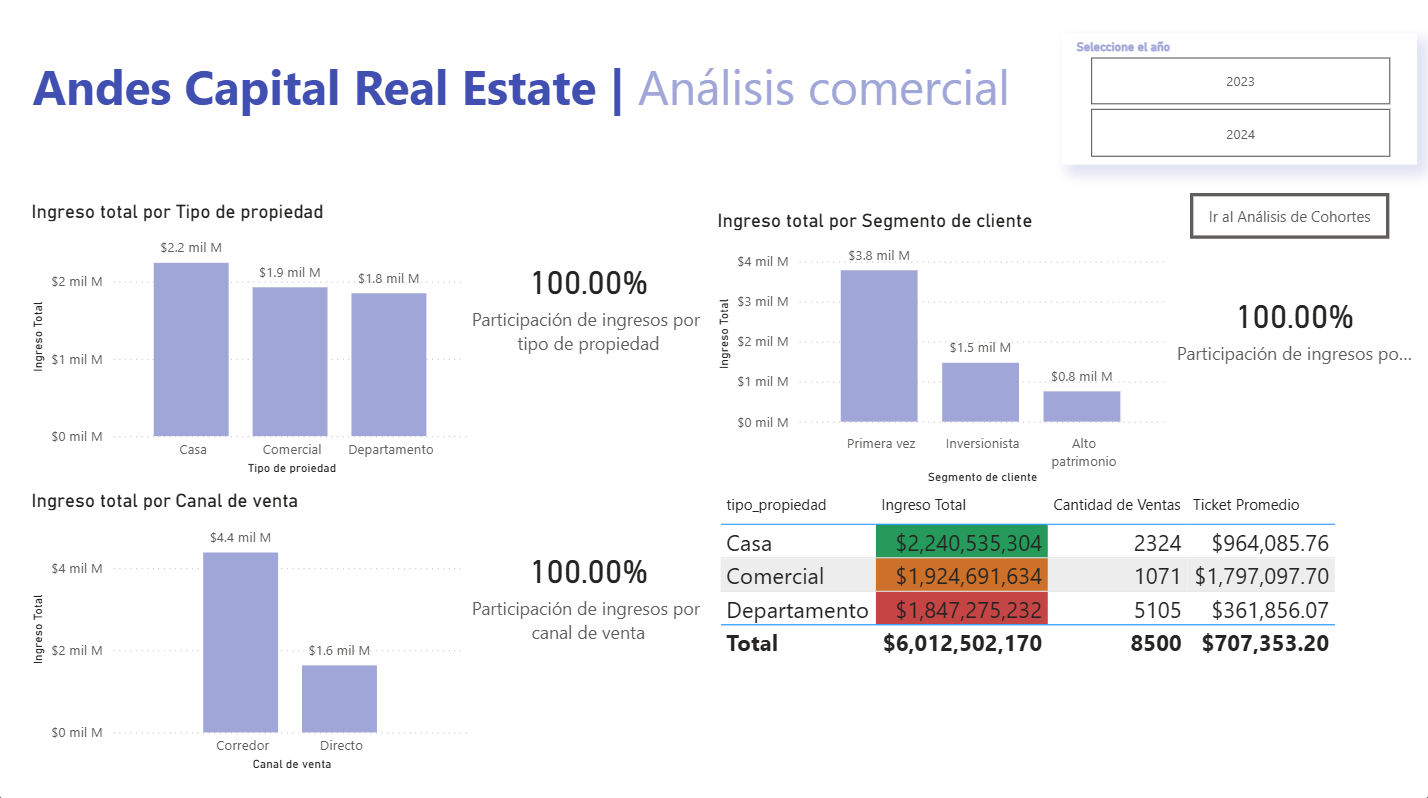

What the dashboard file says about the page in this screenshot:
{"tool":"powerbi","page":{"name":"Análisis comercial","canvas":[1280,720],"ordinal":1},"visuals":[{"type":"clusteredColumnChart","title":"Ingreso total por Tipo de propiedad","fields":{"Y":["Medidas.Ingreso Total"],"Category":["dim_propiedades.tipo_propiedad"]},"box":[24.6,183.3,402.7,250.4],"z":0},{"type":"card","fields":{"Values":["Medidas.Participación de ingresos por tipo de propiedad"]},"box":[417.4,183.3,221,165.3],"z":1000},{"type":"clusteredColumnChart","title":"Ingreso total por Canal de venta","fields":{"Y":["Medidas.Ingreso Total"],"Category":["hecho_ventas_propiedades.canal_venta"]},"box":[24.6,441.9,402.7,257],"z":2000},{"type":"card","fields":{"Values":["Medidas.Participación de ingresos por canal de venta"]},"box":[417.4,441.9,221,165.3],"z":3000},{"type":"clusteredColumnChart","title":"Ingreso total por Segmento de cliente","fields":{"Y":["Medidas.Ingreso Total"],"Category":["dim_clientes.segmento_comprador"]},"box":[638.4,191.5,410.8,250.4],"z":4000},{"type":"card","fields":{"Values":["Medidas.Participación de ingresos por segmento de cliente"]},"box":[1049.3,244.4,221,103.9],"z":5000},{"type":"tableEx","fields":{"Values":["dim_propiedades.tipo_propiedad","Medidas.Ingreso Total","Medidas.Cantidad de Ventas","Medidas.Ticket Promedio"]},"box":[640,441.7,605.5,184.9],"z":6000},{"type":"textbox","box":[24.9,47.9,917.8,84.3],"z":7000},{"type":"slicer","fields":{"Values":["Dim_Fecha.Año"]},"box":[952.3,34.5,318.1,116.9],"z":8000},{"type":"actionButton","box":[1066.8,177.1,178.5,41],"z":8001}]}

Visuals, with their boxes in screenshot pixels (x1, y1, x2, y2), scaled from the page's 1280x720 canvas onto the 1428x798 screenshot:
"Ingreso total por Tipo de propiedad" clusteredColumnChart: 27:203:477:481
card - Medidas.Participación de ingresos por tipo de propiedad: 466:203:712:386
"Ingreso total por Canal de venta" clusteredColumnChart: 27:490:477:775
card - Medidas.Participación de ingresos por canal de venta: 466:490:712:673
"Ingreso total por Segmento de cliente" clusteredColumnChart: 712:212:1171:490
card - Medidas.Participación de ingresos por segmento de cliente: 1171:271:1417:386
tableEx - dim_propiedades.tipo_propiedad x Medidas.Ingreso Total: 714:490:1390:694
textbox: 28:53:1052:147
slicer - Dim_Fecha.Año: 1062:38:1417:168
actionButton: 1190:196:1389:242
